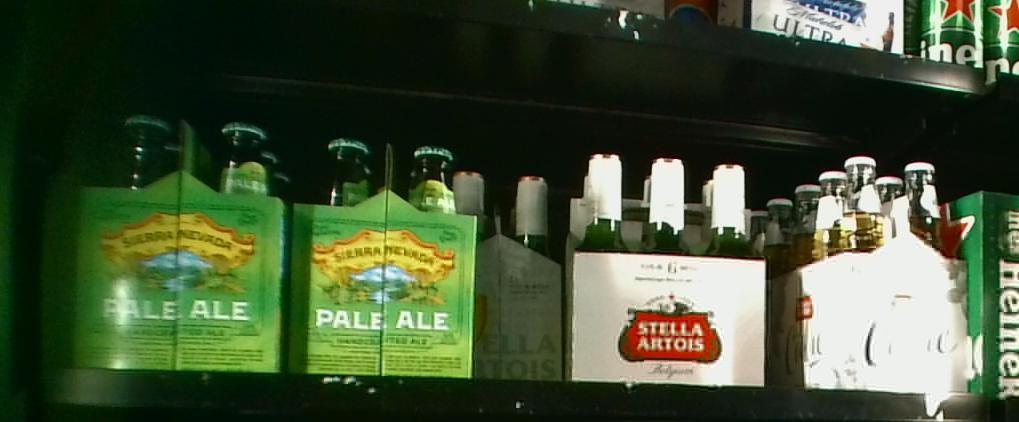bottle: (33, 103, 289, 366), (286, 118, 475, 374), (563, 153, 769, 385), (774, 156, 967, 389)
